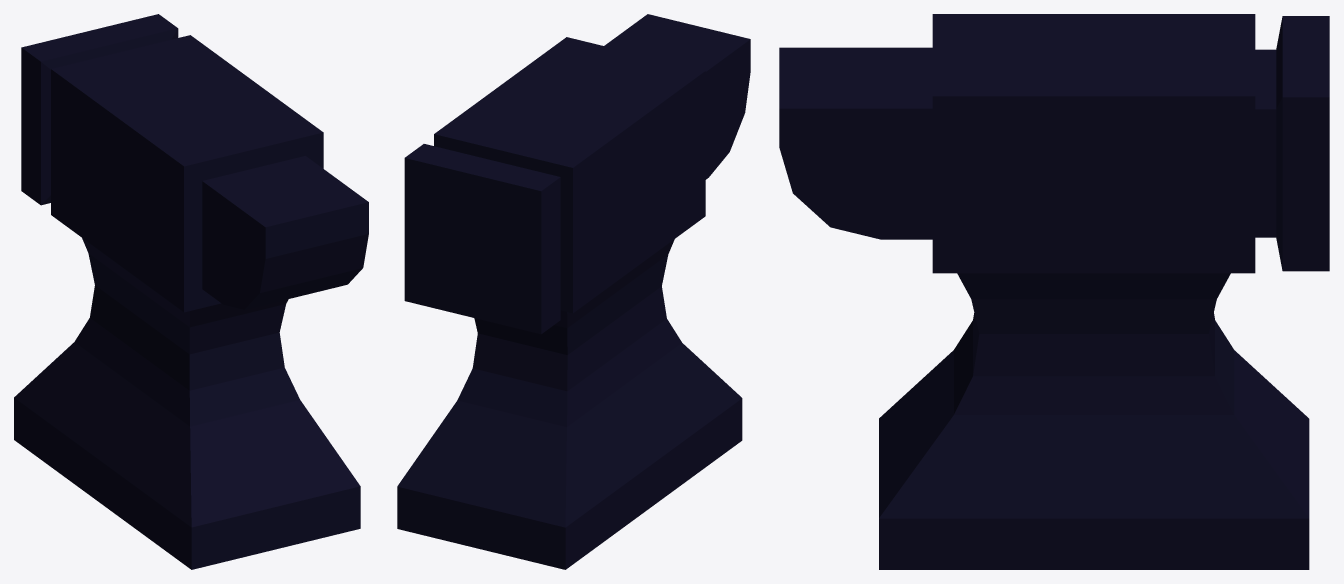
Rendered from anvil.fbx.
The picture shows the model from 3 angles, left to right: view 1: azimuth 30°, elevation 25°; view 2: azimuth 150°, elevation 25°; view 3: azimuth 270°, elevation 25°; orthographic projection. The views are drawn at different scales.
Visible parts, largest first — view 1: Cube; view 2: Cube; view 3: Cube.
Part boxes in pixels (x1,y1,x2,y2): Cube: [14, 14, 368, 569]; Cube: [397, 14, 750, 569]; Cube: [779, 14, 1329, 569].
Size of the model in its own units: 128 by 278 by 298.
